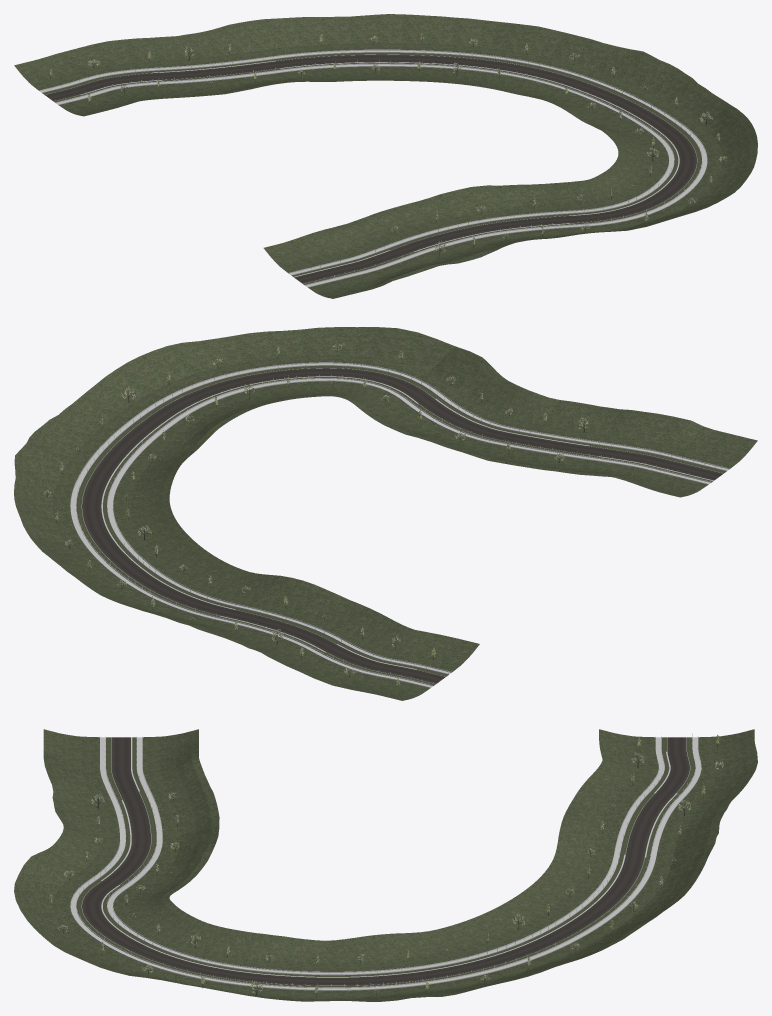
3 views of the same model, one above another, from view 1: azimuth 30°, elevation 25°; view 2: azimuth 150°, elevation 25°; view 3: azimuth 270°, elevation 25° (orthographic). The views are drawn at different scales.
Parts seen in each view (by area): view 1: Grass, Road, Track, Trees, Curbs; view 2: Grass, Road, Track, Trees, Curbs; view 3: Grass, Road, Track, Trees, Curbs.
Boxes of the visible parts, <box> form: Grass: <box>14,14,757,298</box>; Road: <box>45,54,696,283</box>; Track: <box>39,49,707,287</box>; Trees: <box>49,31,726,255</box>; Curbs: <box>80,60,679,277</box>; Grass: <box>14,327,757,700</box>; Road: <box>82,368,723,683</box>; Track: <box>70,362,729,688</box>; Trees: <box>42,342,588,688</box>; Curbs: <box>101,376,713,669</box>; Grass: <box>14,729,757,1001</box>; Road: <box>82,737,689,985</box>; Track: <box>70,733,701,990</box>; Trees: <box>49,734,723,996</box>; Curbs: <box>101,737,677,977</box>.
Size of what is drawn, in the model's own units: 57584 by 2917 by 66965.
